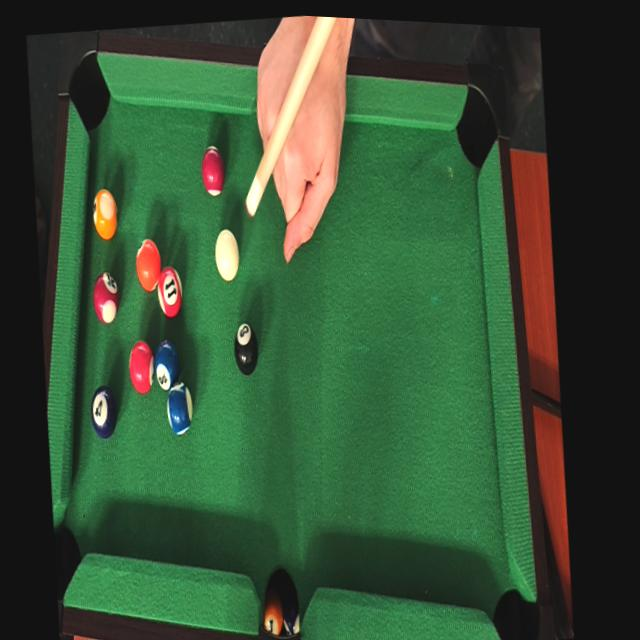cue ball: (206, 220, 245, 286)
other: (127, 233, 170, 298), (120, 335, 160, 403), (83, 180, 124, 246), (149, 259, 190, 324), (159, 379, 199, 444), (191, 139, 230, 205), (83, 262, 122, 328), (84, 383, 124, 444), (147, 334, 184, 397), (226, 317, 261, 376)
